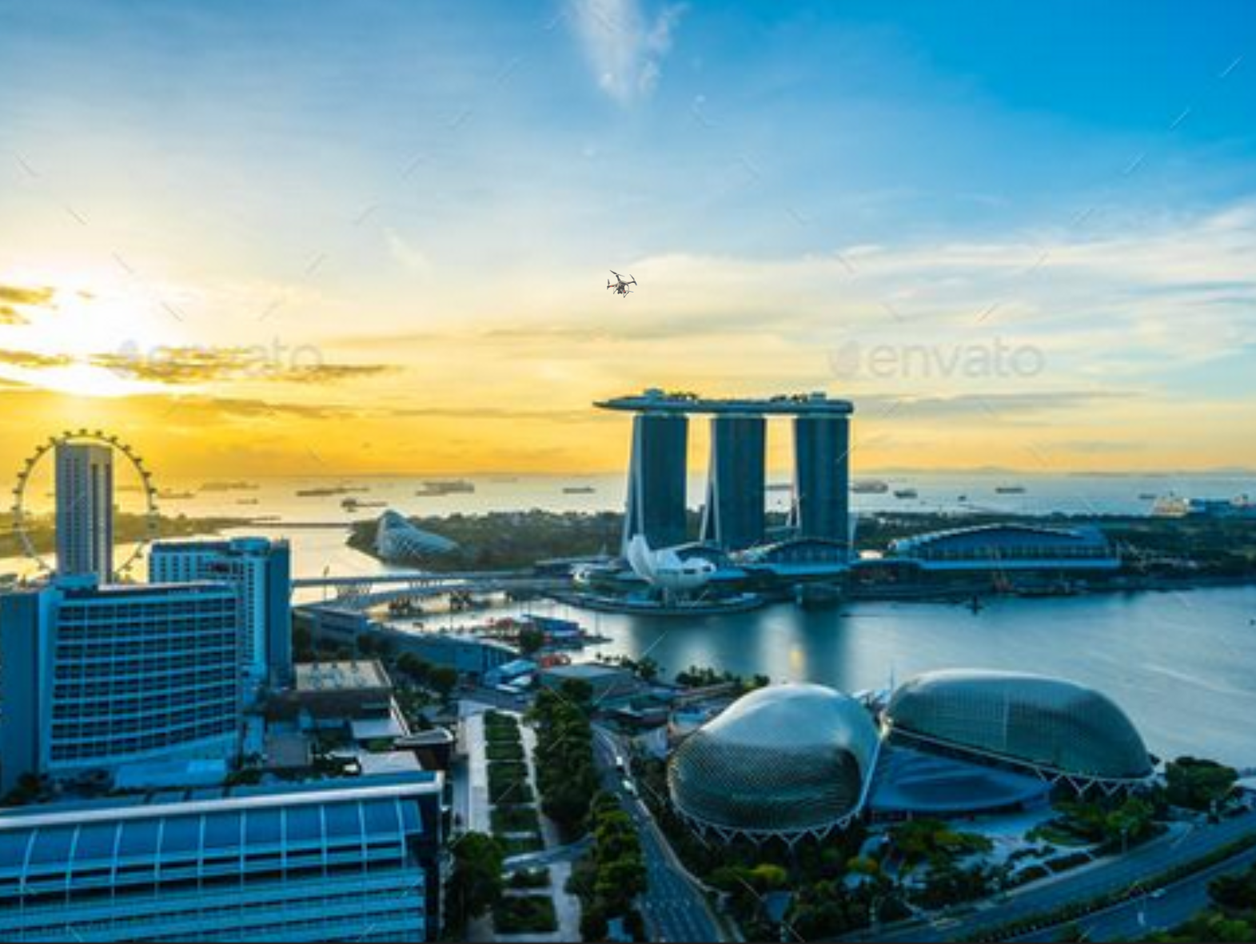drone_other: (606, 268, 638, 298)
